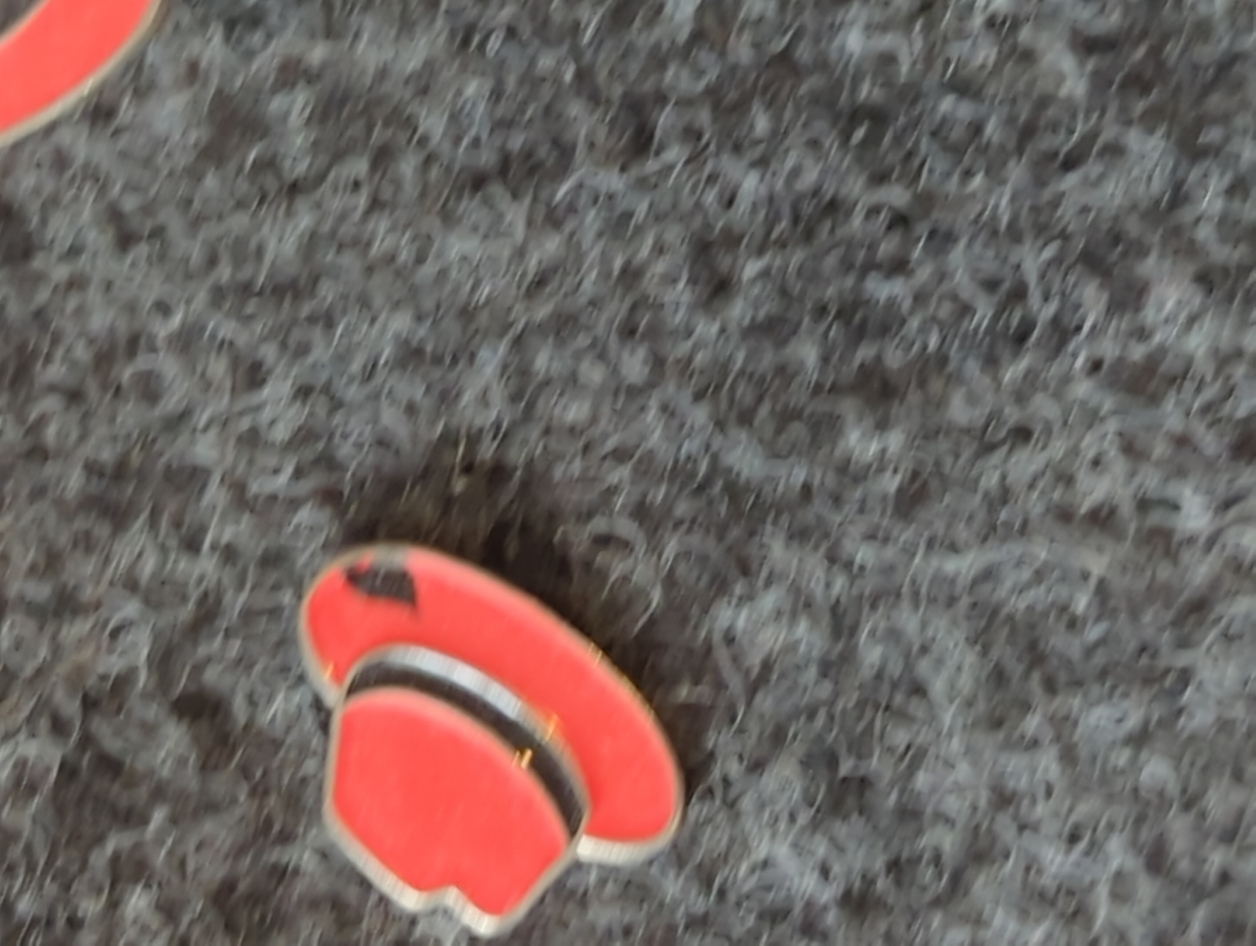Red-Hat: (215, 446, 779, 946)
Scratch: (301, 513, 456, 633)
